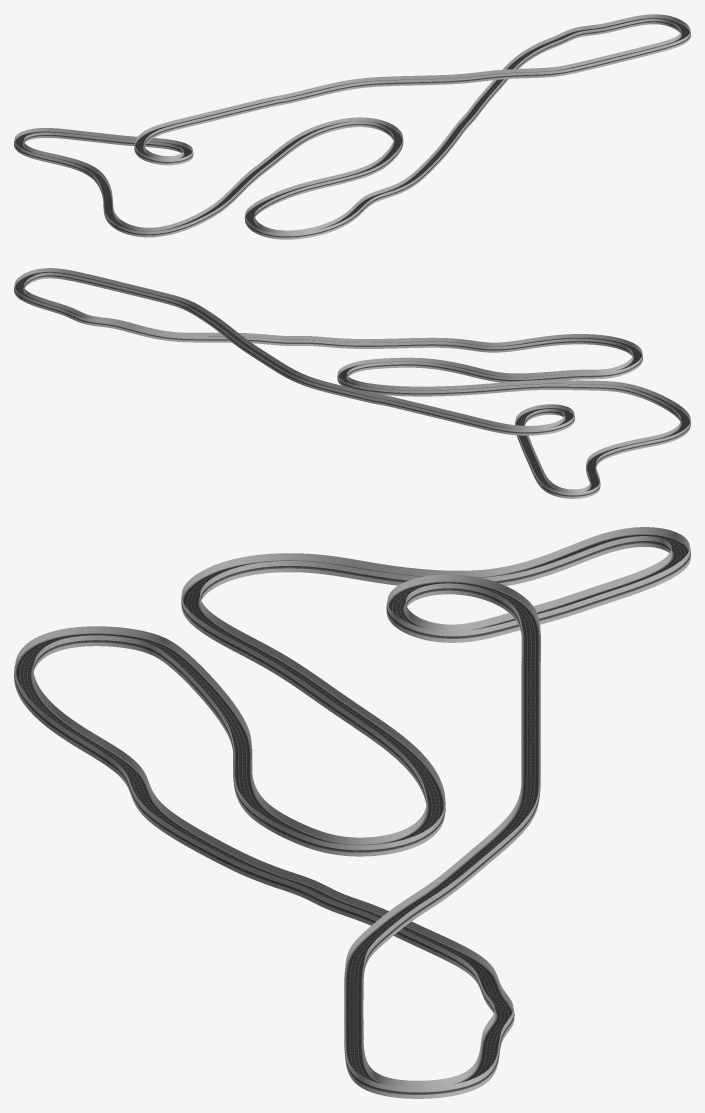
The model's file is Track2B.fbx.
The picture shows the model from 3 angles, top to bottom: view 1: azimuth 30°, elevation 25°; view 2: azimuth 150°, elevation 25°; view 3: azimuth 270°, elevation 25°; orthographic projection. The views are drawn at different scales.
Visible parts, largest first — view 1: InvisWall.001, Road.002, Plane.008; view 2: InvisWall.001, Road.002, Plane.008; view 3: InvisWall.001, Road.002, Plane.008.
Part boxes in pixels (x1,y1,x2,y2): InvisWall.001: (14, 14, 690, 239); Road.002: (15, 17, 689, 231); Plane.008: (14, 21, 690, 237); InvisWall.001: (14, 268, 690, 498); Road.002: (14, 271, 690, 491); Plane.008: (14, 275, 690, 496); InvisWall.001: (14, 527, 690, 1098); Road.002: (15, 534, 689, 1084); Plane.008: (14, 541, 690, 1094).
Size of the model in its own units: 73285 by 3677 by 35496.
